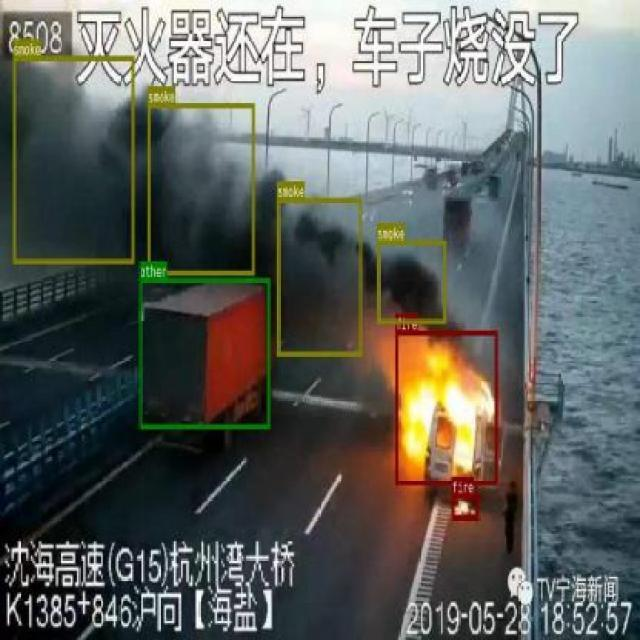Fire: (395, 330, 497, 484), (452, 494, 478, 518)
Smoke: (12, 54, 134, 262), (147, 102, 255, 275), (276, 198, 362, 354), (376, 240, 446, 322)
